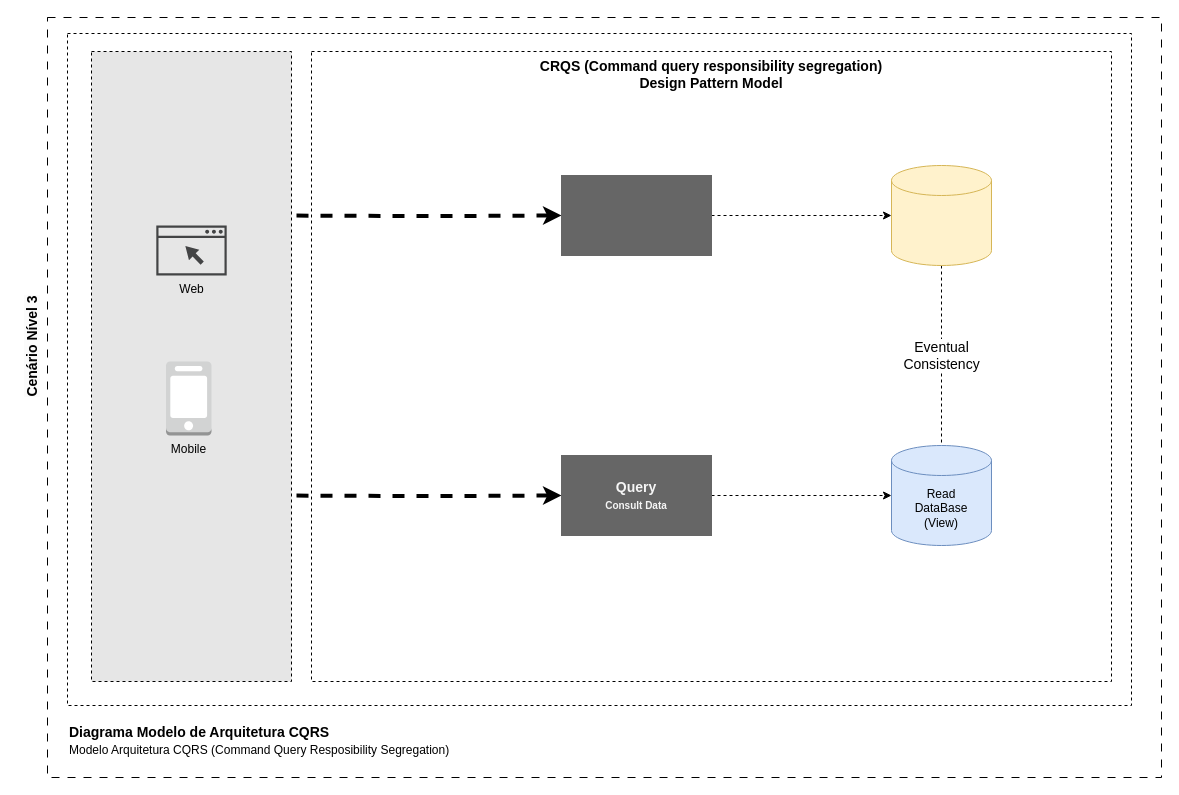
This 1179x795 diagram has some shape labels left out. The box of each missing label's shape, as (x1, y1, x2, y2) in pixels:
Command Write Transaction: (560, 174, 712, 256)
UI: (90, 50, 292, 682)
Write Database (Tables): (890, 164, 992, 266)
